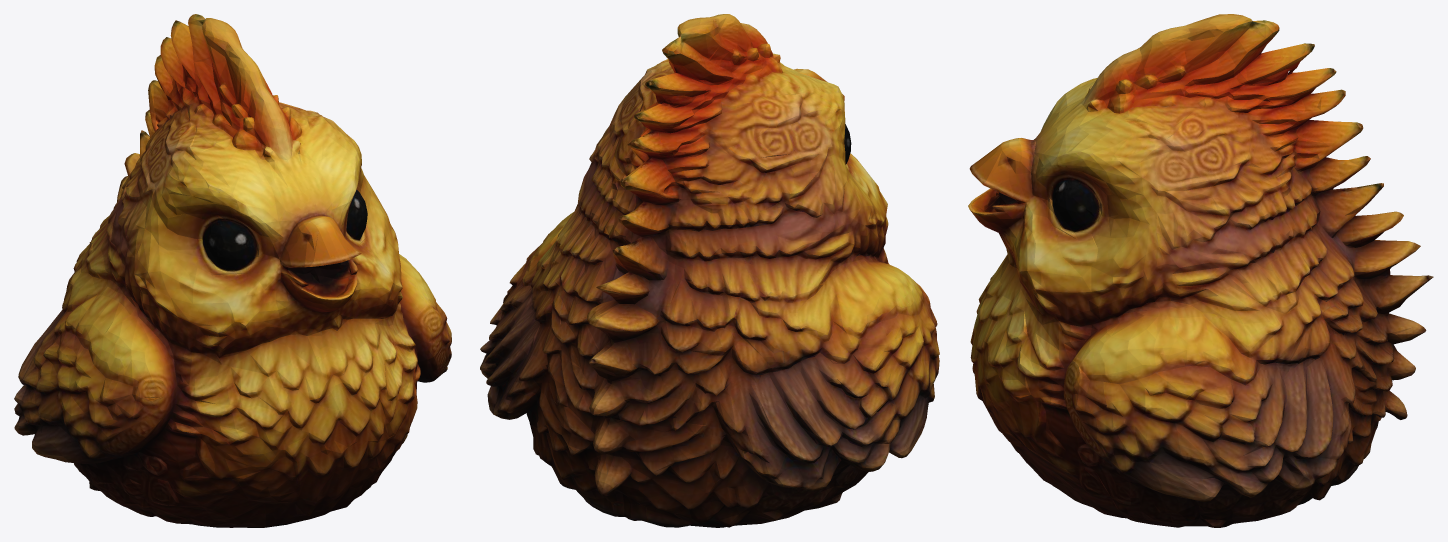
Rendered from sunbirdChick.glb.
The picture shows the model from 3 angles, left to right: view 1: azimuth 30°, elevation 25°; view 2: azimuth 150°, elevation 25°; view 3: azimuth 270°, elevation 25°; orthographic projection. The views are drawn at different scales.
Visible parts, largest first — view 1: world; view 2: world; view 3: world.
Part boxes in pixels (x1,y1,x2,y2): world: (14,14,451,527); world: (480,14,939,527); world: (968,14,1433,527).
Bounding box in the file's own units: 0.9224 × 1 × 0.9242.
1 material, 1 textured.
